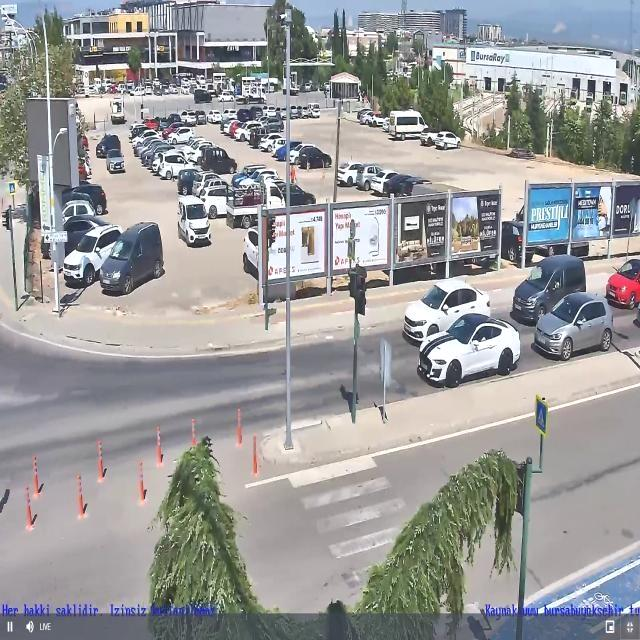Car: (417, 313, 522, 389), (532, 293, 615, 362), (403, 282, 488, 342), (243, 228, 281, 279), (606, 259, 640, 309), (194, 184, 232, 218), (234, 169, 284, 193), (157, 152, 199, 180), (366, 170, 406, 196), (190, 171, 228, 198), (146, 145, 178, 172), (354, 164, 386, 190), (296, 146, 332, 169), (182, 140, 215, 164), (337, 161, 367, 187), (273, 141, 306, 162), (234, 122, 264, 142), (132, 130, 161, 150), (433, 131, 461, 150), (257, 133, 285, 152), (166, 126, 194, 144), (106, 148, 126, 173), (128, 123, 152, 141), (420, 128, 442, 146), (222, 118, 243, 135), (506, 148, 536, 159), (368, 112, 388, 127), (179, 111, 198, 126), (356, 109, 374, 123), (281, 105, 300, 118), (221, 108, 238, 122), (207, 110, 222, 123), (263, 106, 278, 118), (218, 91, 234, 102), (307, 104, 320, 117), (301, 105, 313, 118), (301, 82, 314, 92), (130, 88, 145, 96)
Van: (512, 252, 586, 324), (96, 223, 162, 293), (63, 222, 125, 286), (173, 196, 212, 246), (499, 221, 538, 264), (63, 184, 108, 216), (199, 146, 238, 175), (270, 183, 316, 207), (177, 169, 207, 195), (95, 134, 121, 158), (255, 118, 284, 135), (236, 108, 262, 122), (160, 113, 182, 127), (194, 89, 212, 103), (247, 91, 266, 104), (194, 110, 207, 124)
